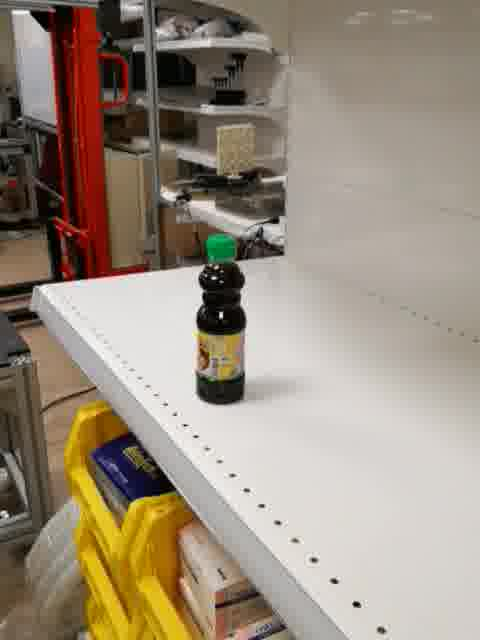cookingoil: (194, 234, 248, 407)
